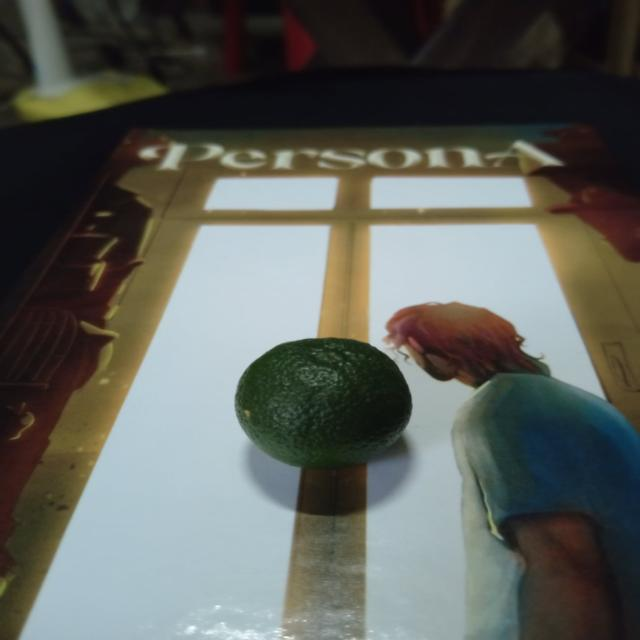heathy: (232, 336, 410, 470)
